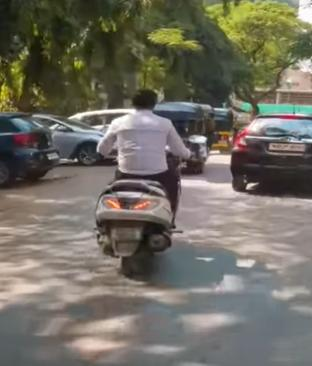rear: (97, 181, 162, 275)
